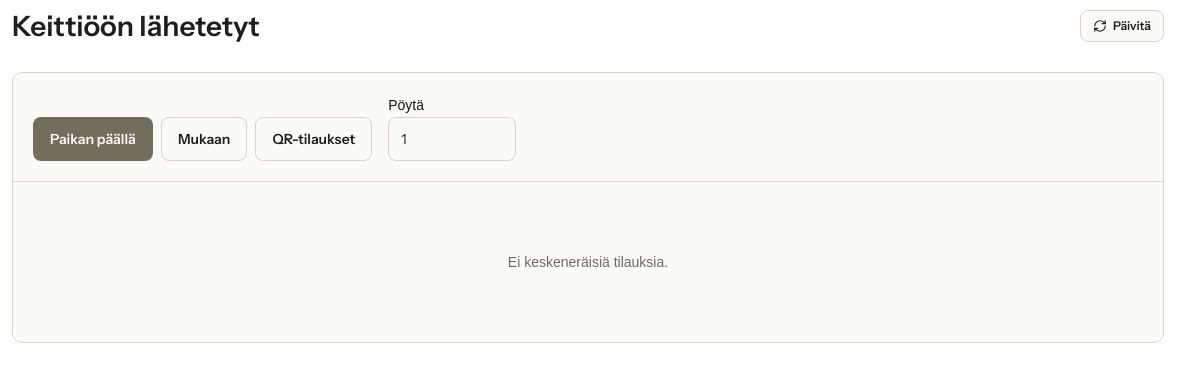
Scenario: loads later active cursor pages so READY orders beyond the first page remain available
Click the button "QR-tilaukset": x=314, y=139 [255,117,372,161]
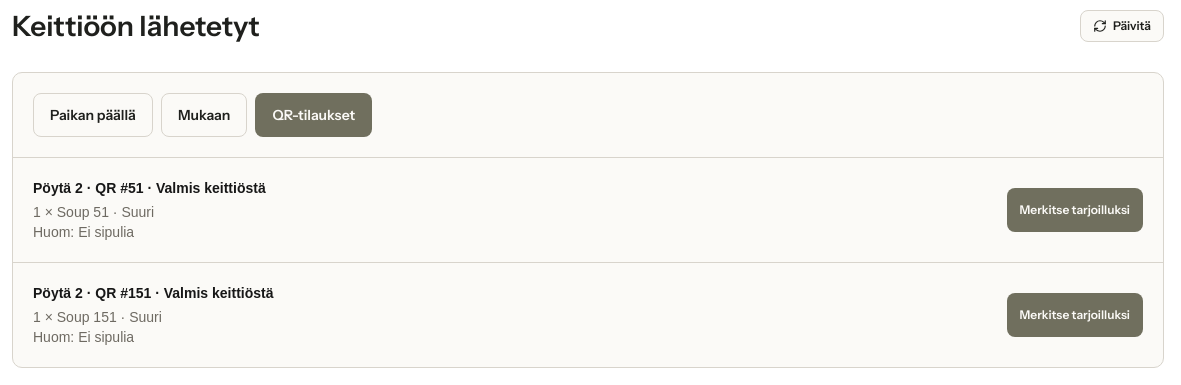
Result: the button with aria-label "Merkitse tarjoilluksi: tilaus #151" is shown at [1006,293,1143,337]
Result: the button with aria-label "Merkitse tarjoilluksi: tilaus #51" is shown at [1006,188,1143,232]
